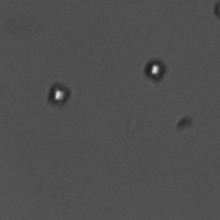Living Cell: (45, 81, 74, 107), (141, 56, 170, 82)
